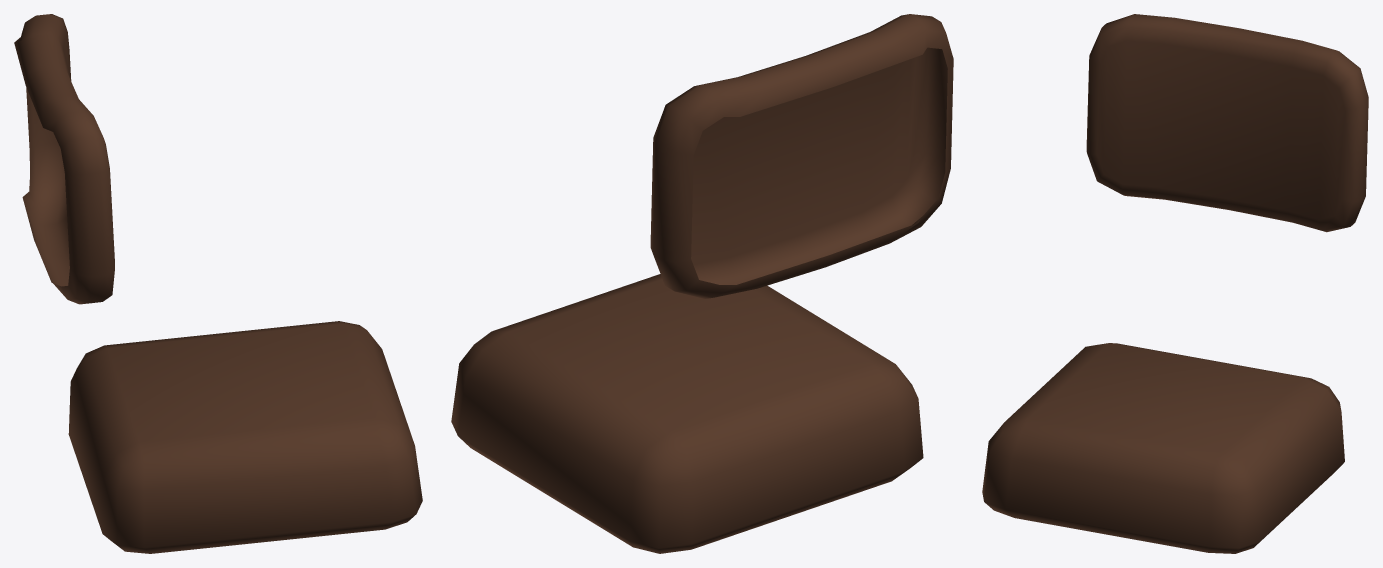
File: cube.004_4_lev1.glb
3 renders of one model, left to right at view 1: azimuth 30°, elevation 25°; view 2: azimuth 150°, elevation 25°; view 3: azimuth 270°, elevation 25°, orthographic. The views are drawn at different scales.
Visible parts, largest first — view 1: cube.004_4_lev1; view 2: cube.004_4_lev1; view 3: cube.004_4_lev1.
Part boxes in pixels (x1,y1,x2,y2): cube.004_4_lev1: (14, 14, 422, 553); cube.004_4_lev1: (451, 14, 953, 553); cube.004_4_lev1: (982, 14, 1368, 553).
Size of the model in its own units: 1.61 by 1.76 by 1.56.
